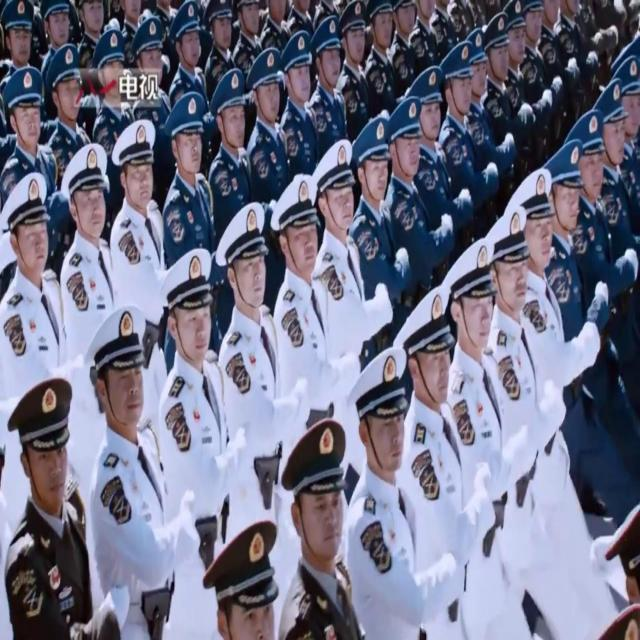Soldier: (84, 288, 178, 640), (442, 230, 517, 640), (397, 280, 464, 640), (0, 377, 89, 640), (342, 337, 414, 640), (515, 162, 558, 640), (213, 197, 288, 469), (486, 197, 532, 640), (162, 236, 213, 629), (274, 420, 353, 640), (315, 138, 368, 420), (266, 177, 333, 385), (62, 139, 115, 351), (0, 168, 53, 378), (353, 112, 397, 343), (410, 55, 451, 284), (386, 87, 426, 319), (207, 524, 284, 640), (545, 142, 589, 344), (592, 80, 628, 280), (119, 116, 158, 294), (165, 92, 211, 238), (572, 113, 606, 309), (467, 27, 501, 210), (444, 41, 469, 279), (210, 68, 249, 207), (55, 42, 91, 183), (249, 46, 286, 180), (284, 33, 315, 188), (312, 13, 344, 158), (7, 68, 49, 172), (95, 28, 131, 147), (485, 12, 511, 165), (617, 54, 640, 210), (502, 0, 526, 146), (343, 2, 373, 118), (520, 0, 544, 142), (166, 2, 205, 86), (364, 0, 393, 93), (0, 0, 37, 66), (391, 0, 420, 78), (135, 12, 166, 80), (231, 0, 267, 55), (207, 0, 235, 59), (70, 0, 106, 42), (38, 0, 65, 40)
